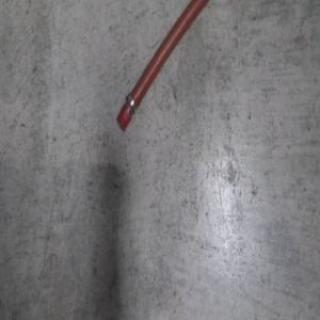Hosetrack_idkeyframe: (113, 0, 211, 132)
